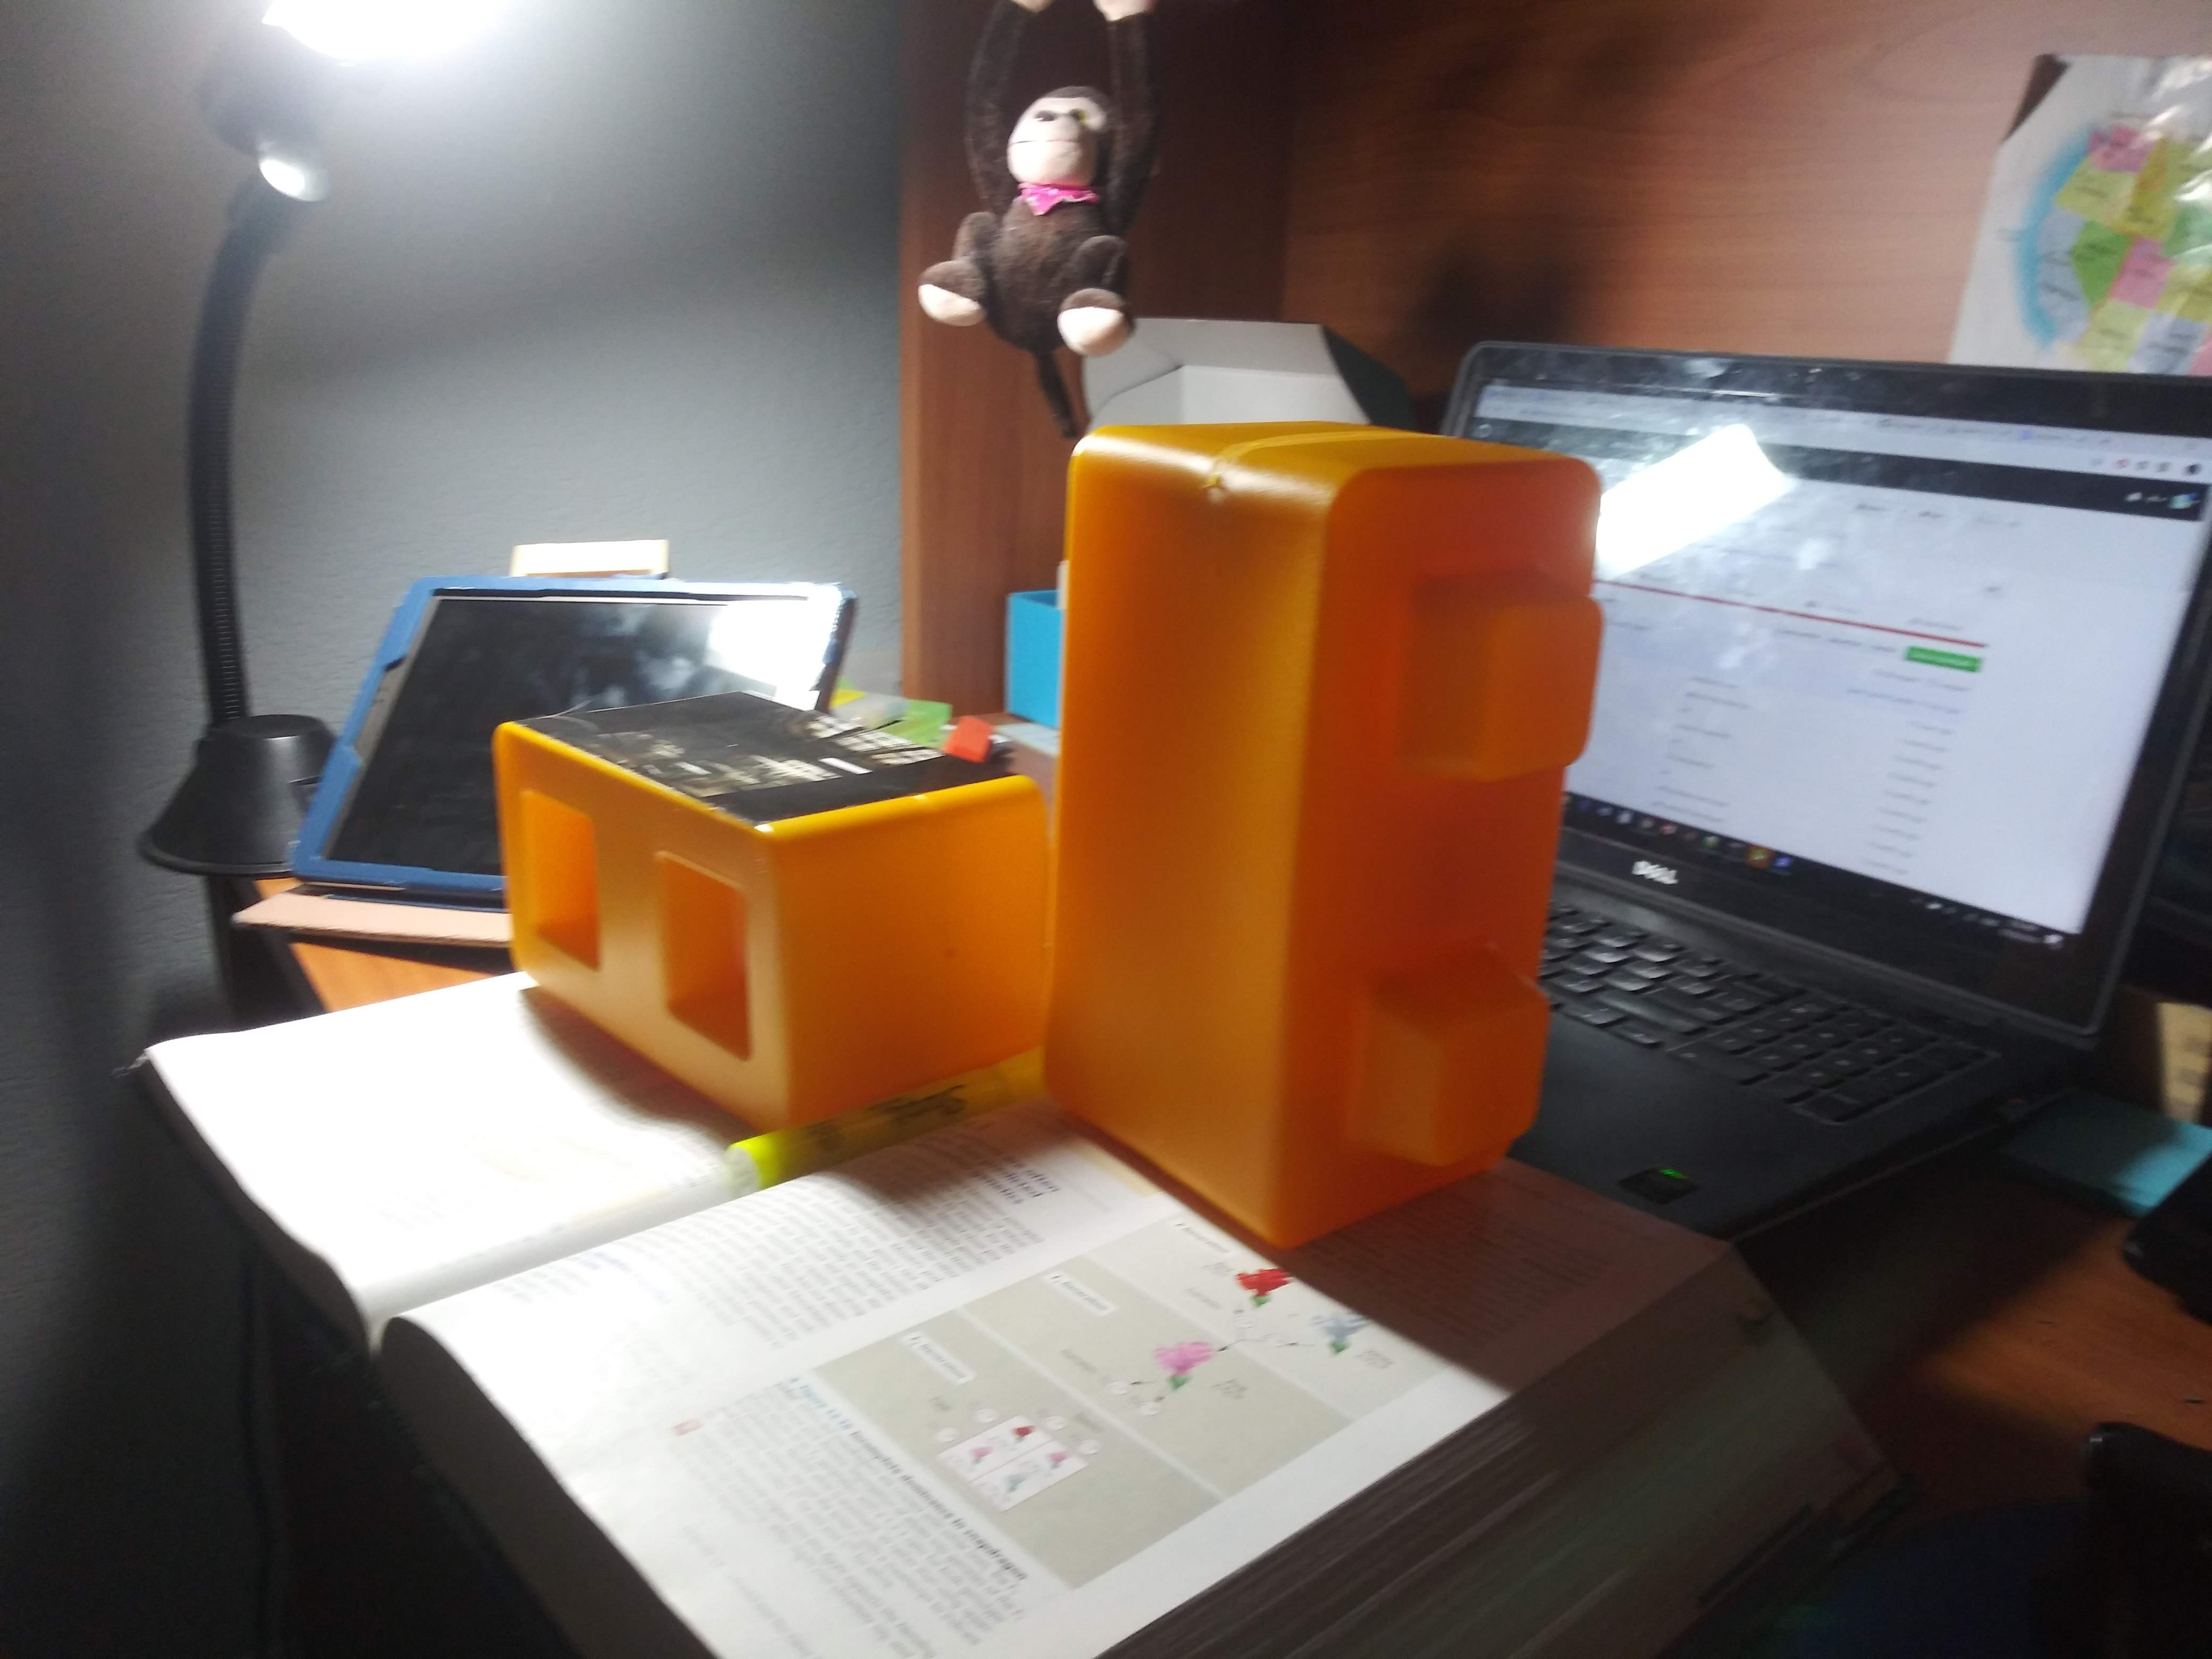skystone: (496, 704, 1033, 1103)
stone: (1062, 418, 1543, 1225)
